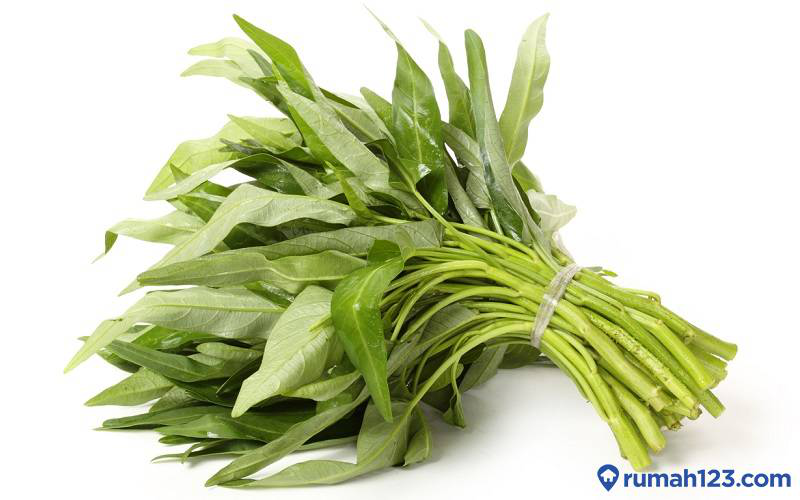Kangkung: (103, 35, 611, 375)
